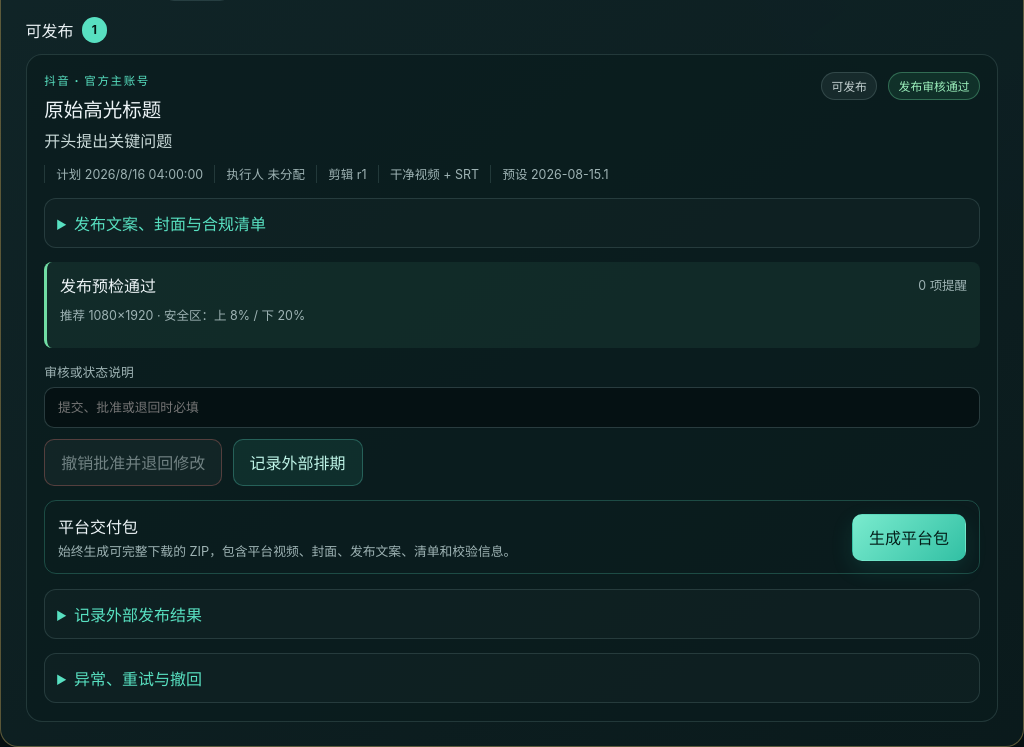
Scenario: requires an exact current successful package before recording publication
(page scrolled)
Check: the text "抖音 · 官方主账号" is shown, box [44,74,150,88]
Click the heading "记录外部发布结果". click: (138, 615)
box: [74,605,202,625]
(page scrolled)
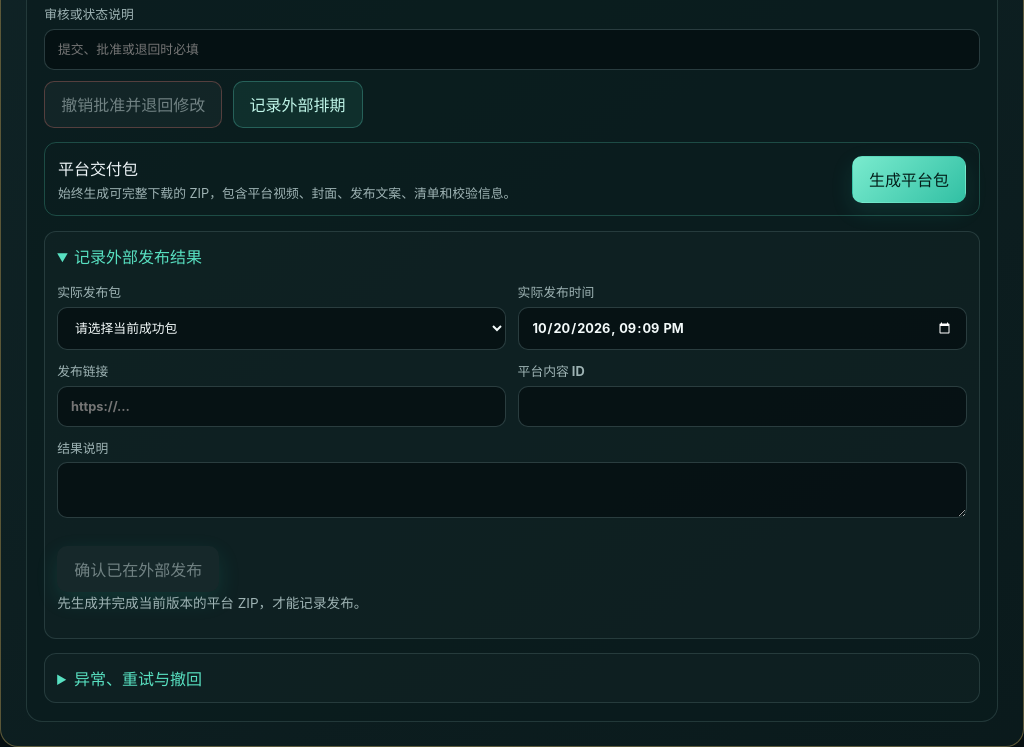
Check: the text "先生成并完成当前版本的平台 ZIP，才能记录发布。" is shown, box [57,595,367,611]
Check: the button "确认已在外部发布" is disabled, box [57,546,219,592]
